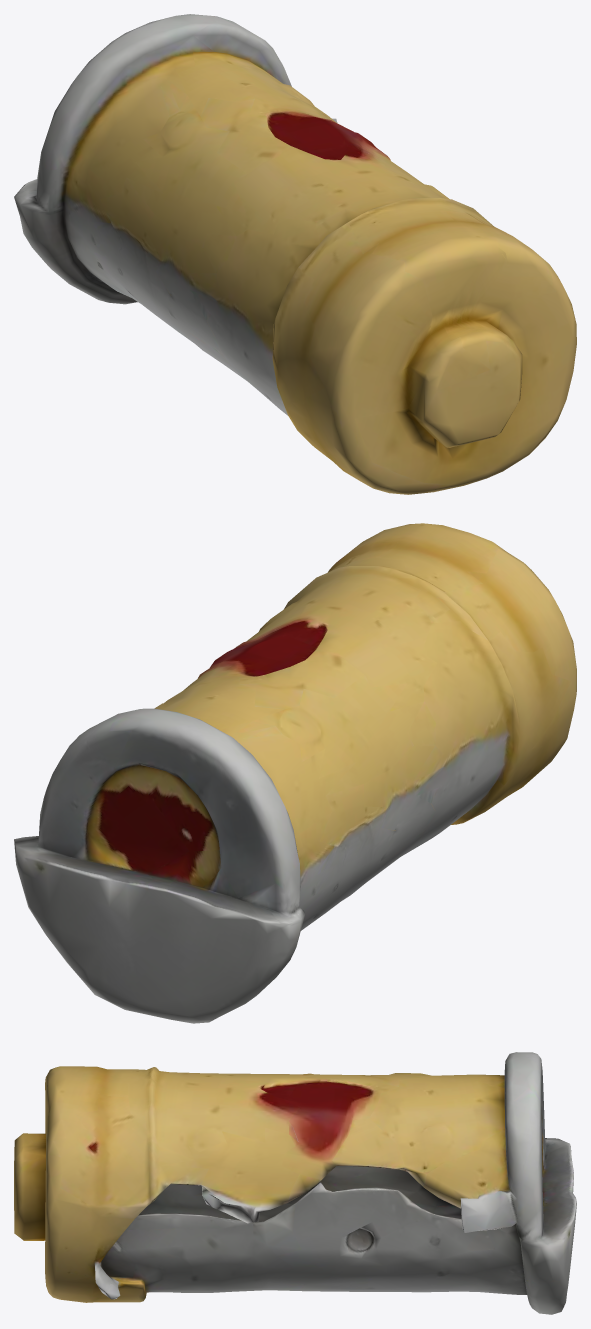
Rendered from shard.glb.
3 renders of one model, top to bottom at view 1: azimuth 30°, elevation 25°; view 2: azimuth 150°, elevation 25°; view 3: azimuth 270°, elevation 25°, orthographic. The views are drawn at different scales.
Visible parts, largest first — view 1: tripo_node_94065932-9acb-4691-b10a-1d47c68e6f59; view 2: tripo_node_94065932-9acb-4691-b10a-1d47c68e6f59; view 3: tripo_node_94065932-9acb-4691-b10a-1d47c68e6f59.
Part boxes in pixels (x1=…): tripo_node_94065932-9acb-4691-b10a-1d47c68e6f59: x1=14, y1=14, x2=576, y2=494; tripo_node_94065932-9acb-4691-b10a-1d47c68e6f59: x1=14, y1=523, x2=576, y2=1023; tripo_node_94065932-9acb-4691-b10a-1d47c68e6f59: x1=14, y1=1052, x2=576, y2=1314.
Bounding box in the file's own units: 0.4896 × 0.4613 × 1.
Materials: 1 (1 with a texture image).
